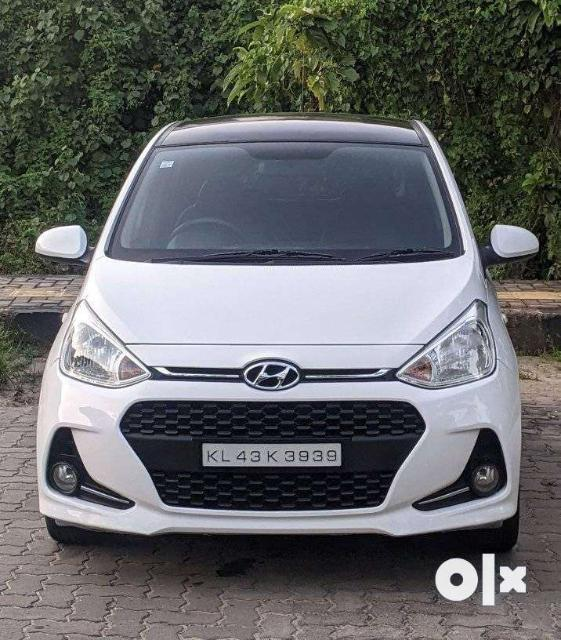Indian_Number_Plate: (197, 440, 347, 468)
